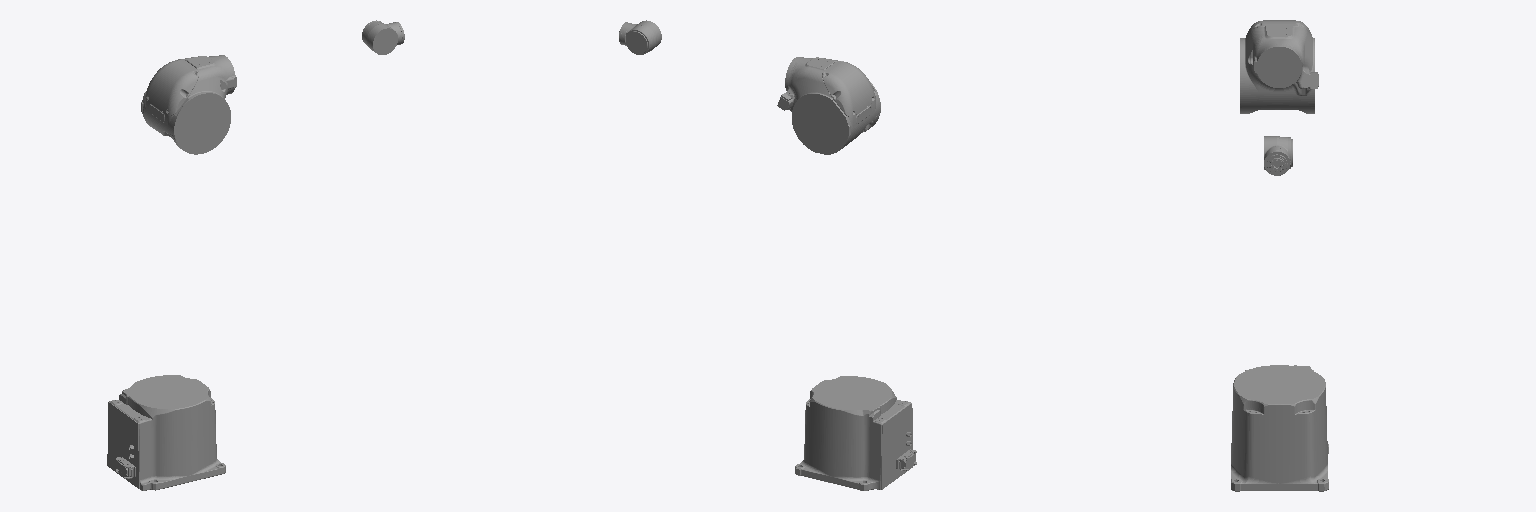
URDF robot description (m-20ib25):
<?xml version="1.0" ?>
<!-- =================================================================================== -->
<!-- |    This document was autogenerated by xacro from [local-path]/mixed_robotics/fanuc_m20ib25_ws/src/fanuc_m20ib25_description/urdf/fanuc_m20ib25.xacro | -->
<!-- |    EDITING THIS FILE BY HAND IS NOT RECOMMENDED                                 | -->
<!-- =================================================================================== -->
<robot name="m-20ib25">
    <material name="silver_default">
        <color rgba="0.700 0.700 0.700 1.000" />
    </material>
    <material name="steel_satin">
        <color rgba="0.6274509803921569 0.6274509803921569 0.6274509803921569 1.0" />
    </material>
    <transmission name="Revolute1_tran">
        <type>transmission_interface/SimpleTransmission</type>
        <joint name="Revolute1">
            <hardwareInterface>hardware_interface/EffortJointInterface</hardwareInterface>
        </joint>
        <actuator name="Revolute1_actr">
            <hardwareInterface>hardware_interface/EffortJointInterface</hardwareInterface>
            <mechanicalReduction>1</mechanicalReduction>
        </actuator>
    </transmission>
    <transmission name="Revolute2_tran">
        <type>transmission_interface/SimpleTransmission</type>
        <joint name="Revolute2">
            <hardwareInterface>hardware_interface/EffortJointInterface</hardwareInterface>
        </joint>
        <actuator name="Revolute2_actr">
            <hardwareInterface>hardware_interface/EffortJointInterface</hardwareInterface>
            <mechanicalReduction>1</mechanicalReduction>
        </actuator>
    </transmission>
    <transmission name="Revolute3_tran">
        <type>transmission_interface/SimpleTransmission</type>
        <joint name="Revolute3">
            <hardwareInterface>hardware_interface/EffortJointInterface</hardwareInterface>
        </joint>
        <actuator name="Revolute3_actr">
            <hardwareInterface>hardware_interface/EffortJointInterface</hardwareInterface>
            <mechanicalReduction>1</mechanicalReduction>
        </actuator>
    </transmission>
    <transmission name="Revolute4_tran">
        <type>transmission_interface/SimpleTransmission</type>
        <joint name="Revolute4">
            <hardwareInterface>hardware_interface/EffortJointInterface</hardwareInterface>
        </joint>
        <actuator name="Revolute4_actr">
            <hardwareInterface>hardware_interface/EffortJointInterface</hardwareInterface>
            <mechanicalReduction>1</mechanicalReduction>
        </actuator>
    </transmission>
    <transmission name="Revolute5_tran">
        <type>transmission_interface/SimpleTransmission</type>
        <joint name="Revolute5">
            <hardwareInterface>hardware_interface/EffortJointInterface</hardwareInterface>
        </joint>
        <actuator name="Revolute5_actr">
            <hardwareInterface>hardware_interface/EffortJointInterface</hardwareInterface>
            <mechanicalReduction>1</mechanicalReduction>
        </actuator>
    </transmission>
    <transmission name="Revolute6_tran">
        <type>transmission_interface/SimpleTransmission</type>
        <joint name="Revolute6">
            <hardwareInterface>hardware_interface/EffortJointInterface</hardwareInterface>
        </joint>
        <actuator name="Revolute6_actr">
            <hardwareInterface>hardware_interface/EffortJointInterface</hardwareInterface>
            <mechanicalReduction>1</mechanicalReduction>
        </actuator>
    </transmission>
    <link name="base_link">
        <inertial>
            <origin rpy="0 0 0" xyz="-0.021033412026914156 -0.00013954315148778754 0.16346652283271865" />
            <mass value="268.7708455599856" />
            <inertia ixx="4.269577" ixy="-0.012887" ixz="-0.054386" iyy="5.128804" iyz="-0.009775" izz="4.817204" />
        </inertial>
        <visual>
            <origin rpy="0 0 0" xyz="0 0 0" />
            <geometry>
                <mesh filename="package://fanuc_m20ib25_description/meshes/base_link.stl" scale="0.001 0.001 0.001" />
            </geometry>
            <material name="steel_satin" />
        </visual>
        <collision>
            <origin rpy="0 0 0" xyz="0 0 0" />
            <geometry>
                <mesh filename="package://fanuc_m20ib25_description/meshes/base_link.stl" scale="0.001 0.001 0.001" />
            </geometry>
        </collision>
    </link>
    <link name="M-20iB25_axis1_1">
        <inertial>
            <origin rpy="0 0 0" xyz="0.02317159028781608 0.0014726207585382283 0.16302597671241853" />
            <mass value="238.85884507700155" />
            <inertia ixx="10.566166" ixy="-0.017877" ixz="-0.711286" iyy="4.8133" iyz="-0.044859" izz="9.129152" />
        </inertial>
        <visual>
            <origin rpy="0 0 0" xyz="-0.0 -0.0 -0.331" />
            <geometry>
                <mesh filename="package://fanuc_m20ib25_description/meshes/M-20iB25_axis1_1.stl" scale="0.001 0.001 0.001" />
            </geometry>
            <material name="steel_satin" />
        </visual>
        <collision>
            <origin rpy="0 0 0" xyz="-0.0 -0.0 -0.331" />
            <geometry>
                <mesh filename="package://fanuc_m20ib25_description/meshes/M-20iB25_axis1_1.stl" scale="0.001 0.001 0.001" />
            </geometry>
        </collision>
    </link>
    <link name="M-20iB25_axis2_1">
        <inertial>
            <origin rpy="0 0 0" xyz="-0.007254639239173771 -0.18626448663053624 0.34591831328624456" />
            <mass value="421.9835327470499" />
            <inertia ixx="50.350824" ixy="-0.011178" ixz="0.087846" iyy="46.069591" iyz="-0.141305" izz="6.979563" />
        </inertial>
        <visual>
            <origin rpy="0 0 0" xyz="-0.075 -0.186 -0.648" />
            <geometry>
                <mesh filename="package://fanuc_m20ib25_description/meshes/M-20iB25_axis2_1.stl" scale="0.001 0.001 0.001" />
            </geometry>
            <material name="steel_satin" />
        </visual>
        <collision>
            <origin rpy="0 0 0" xyz="-0.075 -0.186 -0.648" />
            <geometry>
                <mesh filename="package://fanuc_m20ib25_description/meshes/M-20iB25_axis2_1.stl" scale="0.001 0.001 0.001" />
            </geometry>
        </collision>
    </link>
    <link name="M-20iB25_axis3_1">
        <inertial>
            <origin rpy="0 0 0" xyz="0.017326356586805217 -0.12851036249327233 0.04675747814964226" />
            <mass value="146.06269082541283" />
            <inertia ixx="1.65687" ixy="-0.030697" ixz="-0.173811" iyy="1.824285" iyz="-0.022779" izz="1.666802" />
        </inertial>
        <visual>
            <origin rpy="0 0 0" xyz="-0.075 -0.1245 -1.553" />
            <geometry>
                <mesh filename="package://fanuc_m20ib25_description/meshes/M-20iB25_axis3_1.stl" scale="0.001 0.001 0.001" />
            </geometry>
            <material name="steel_satin" />
        </visual>
        <collision>
            <origin rpy="0 0 0" xyz="-0.075 -0.1245 -1.553" />
            <geometry>
                <mesh filename="package://fanuc_m20ib25_description/meshes/M-20iB25_axis3_1.stl" scale="0.001 0.001 0.001" />
            </geometry>
        </collision>
    </link>
    <link name="M-20iB25_axis4_1">
        <inertial>
            <origin rpy="0 0 0" xyz="0.30847001379252836 0.0043060092983377455 4.992924278424127e-05" />
            <mass value="105.86792116418299" />
            <inertia ixx="0.408832" ixy="-0.007042" ixz="-0.000133" iyy="3.871035" iyz="3.3e-05" izz="4.019005" />
        </inertial>
        <visual>
            <origin rpy="0 0 0" xyz="-0.262 0.001 -1.673" />
            <geometry>
                <mesh filename="package://fanuc_m20ib25_description/meshes/M-20iB25_axis4_1.stl" scale="0.001 0.001 0.001" />
            </geometry>
            <material name="steel_satin" />
        </visual>
        <collision>
            <origin rpy="0 0 0" xyz="-0.262 0.001 -1.673" />
            <geometry>
                <mesh filename="package://fanuc_m20ib25_description/meshes/M-20iB25_axis4_1.stl" scale="0.001 0.001 0.001" />
            </geometry>
        </collision>
    </link>
    <link name="M-20iB25_axis5_1">
        <inertial>
            <origin rpy="0 0 0" xyz="0.013068716397272029 -0.05231823515858759 7.023186213483967e-06" />
            <mass value="9.85202292153833" />
            <inertia ixx="0.015228" ixy="0.000265" ixz="-1e-06" iyy="0.022201" iyz="-0.0" izz="0.021862" />
        </inertial>
        <visual>
            <origin rpy="0 0 0" xyz="-0.968 -0.0465 -1.673" />
            <geometry>
                <mesh filename="package://fanuc_m20ib25_description/meshes/M-20iB25_axis5_1.stl" scale="0.001 0.001 0.001" />
            </geometry>
            <material name="steel_satin" />
        </visual>
        <collision>
            <origin rpy="0 0 0" xyz="-0.968 -0.0465 -1.673" />
            <geometry>
                <mesh filename="package://fanuc_m20ib25_description/meshes/M-20iB25_axis5_1.stl" scale="0.001 0.001 0.001" />
            </geometry>
        </collision>
    </link>
    <link name="M-20iB25_axis6_1">
        <inertial>
            <origin rpy="0 0 0" xyz="0.004962281675478186 6.269984531570572e-14 -8.737054003082889e-05" />
            <mass value="0.18058823667093432" />
            <inertia ixx="7.7e-05" ixy="-0.0" ixz="0.0" iyy="4e-05" iyz="-0.0" izz="4.1e-05" />
        </inertial>
        <visual>
            <origin rpy="0 0 0" xyz="-1.0562 0.0082 -1.673" />
            <geometry>
                <mesh filename="package://fanuc_m20ib25_description/meshes/M-20iB25_axis6_1.stl" scale="0.001 0.001 0.001" />
            </geometry>
            <material name="steel_satin" />
        </visual>
        <collision>
            <origin rpy="0 0 0" xyz="-1.0562 0.0082 -1.673" />
            <geometry>
                <mesh filename="package://fanuc_m20ib25_description/meshes/M-20iB25_axis6_1.stl" scale="0.001 0.001 0.001" />
            </geometry>
        </collision>
    </link>
    <joint name="Revolute1" type="continuous">
        <origin rpy="0 0 0" xyz="0.0 0.0 0.331" />
        <parent link="base_link" />
        <child link="M-20iB25_axis1_1" />
        <axis xyz="0.0 0.0 1.0" />
    </joint>
    <joint name="Revolute2" type="continuous">
        <origin rpy="0 0 0" xyz="0.075 0.186 0.317" />
        <parent link="M-20iB25_axis1_1" />
        <child link="M-20iB25_axis2_1" />
        <axis xyz="0.0 -1.0 0.0" />
    </joint>
    <joint name="Revolute3" type="continuous">
        <origin rpy="0 0 0" xyz="0.0 -0.0615 0.905" />
        <parent link="M-20iB25_axis2_1" />
        <child link="M-20iB25_axis3_1" />
        <axis xyz="-0.0 -1.0 0.0" />
    </joint>
    <joint name="Revolute4" type="continuous">
        <origin rpy="0 0 0" xyz="0.187 -0.1255 0.12" />
        <parent link="M-20iB25_axis3_1" />
        <child link="M-20iB25_axis4_1" />
        <axis xyz="1.0 -0.0 0.0" />
    </joint>
    <joint name="Revolute5" type="continuous">
        <origin rpy="0 0 0" xyz="0.706 0.0475 0.0" />
        <parent link="M-20iB25_axis4_1" />
        <child link="M-20iB25_axis5_1" />
        <axis xyz="-0.0 -1.0 -0.0" />
    </joint>
    <joint name="Revolute6" type="continuous">
        <origin rpy="0 0 0" xyz="0.0882 -0.0547 0.0" />
        <parent link="M-20iB25_axis5_1" />
        <child link="M-20iB25_axis6_1" />
        <axis xyz="1.0 -0.0 0.0" />
    </joint>
    <gazebo>
        <plugin name="gazebo_ros_control" filename="libgazebo_ros_control.so">
            <robotNamespace>/</robotNamespace>
        </plugin>
    </gazebo>
</robot>

--- Facts derived from the render (not from the file) ---
3 views of the same robot in one strip: view 1: azimuth 30°, elevation 25°; view 2: azimuth 150°, elevation 25°; view 3: azimuth 270°, elevation 25° (orthographic).
Robot: m-20ib25 — 7 links, 6 joints (6 continuous); root link base_link; default pose: all joints at 0.
Links seen in each view (by area): view 1: base_link, M-20iB25_axis3_1, M-20iB25_axis5_1; view 2: base_link, M-20iB25_axis3_1, M-20iB25_axis5_1; view 3: base_link, M-20iB25_axis3_1, M-20iB25_axis5_1.
Boxes of the visible links, left/top/right/bottom form: base_link: left=107, top=375, right=225, bottom=490; M-20iB25_axis3_1: left=141, top=55, right=236, bottom=154; M-20iB25_axis5_1: left=362, top=20, right=404, bottom=54; base_link: left=795, top=376, right=916, bottom=490; M-20iB25_axis3_1: left=777, top=57, right=880, bottom=154; M-20iB25_axis5_1: left=619, top=20, right=661, bottom=54; base_link: left=1231, top=365, right=1328, bottom=491; M-20iB25_axis3_1: left=1240, top=20, right=1318, bottom=113; M-20iB25_axis5_1: left=1264, top=136, right=1292, bottom=175.
Size in the robot's own frame: 1.32 by 0.343 by 1.76 metres.
Meshes: 7 distinct files referenced, 4 mesh visuals loaded (4 binary STL); not drawn: 3 (reference not matched to a file when rendering).